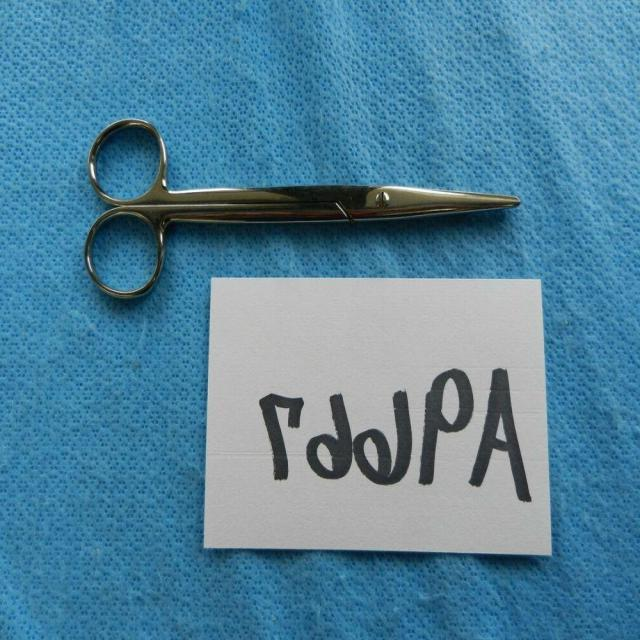Mayo_metz: (81, 109, 526, 315)
